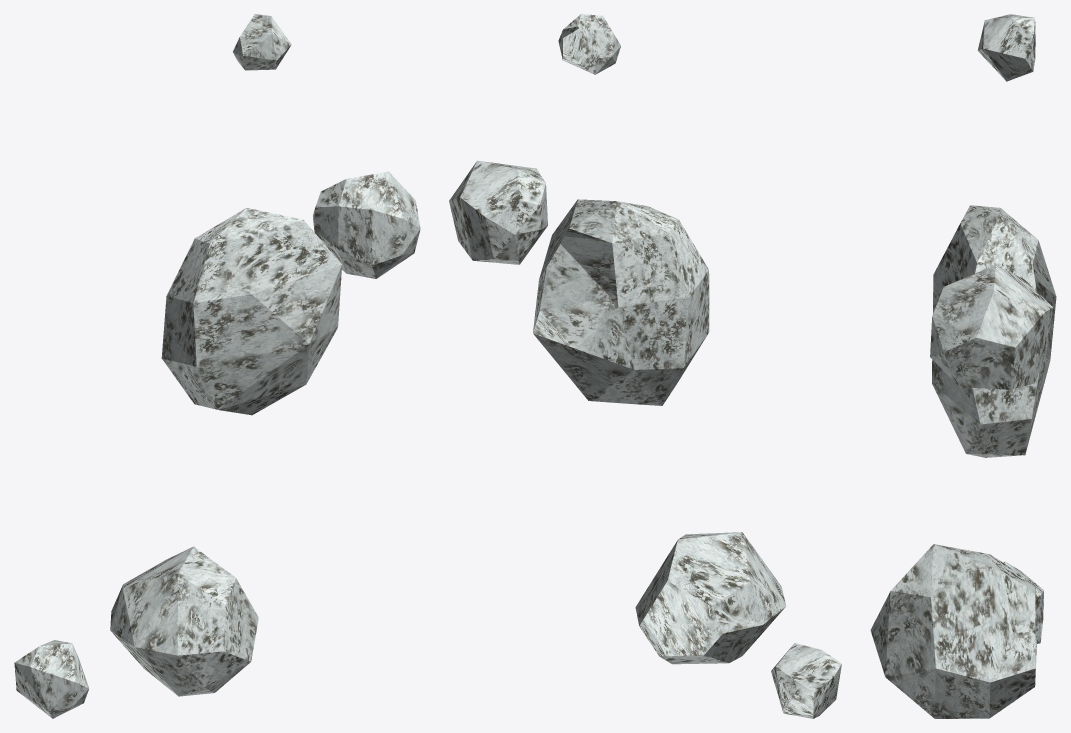
The model's file is zhanchang_fuben_191_xuebeng02a.obj.
3 renders of one model, left to right at view 1: azimuth 30°, elevation 25°; view 2: azimuth 150°, elevation 25°; view 3: azimuth 270°, elevation 25°, orthographic. The views are drawn at different scales.
Visible parts, largest first — view 1: Sphere04; view 2: Sphere04; view 3: Sphere04.
Part boxes in pixels (bbox=[...]): Sphere04: bbox=[14, 14, 420, 718]; Sphere04: bbox=[449, 14, 841, 718]; Sphere04: bbox=[870, 14, 1056, 718].
Size of the model in its own units: 84.63 by 136 by 29.89.
1 material, 1 textured.
